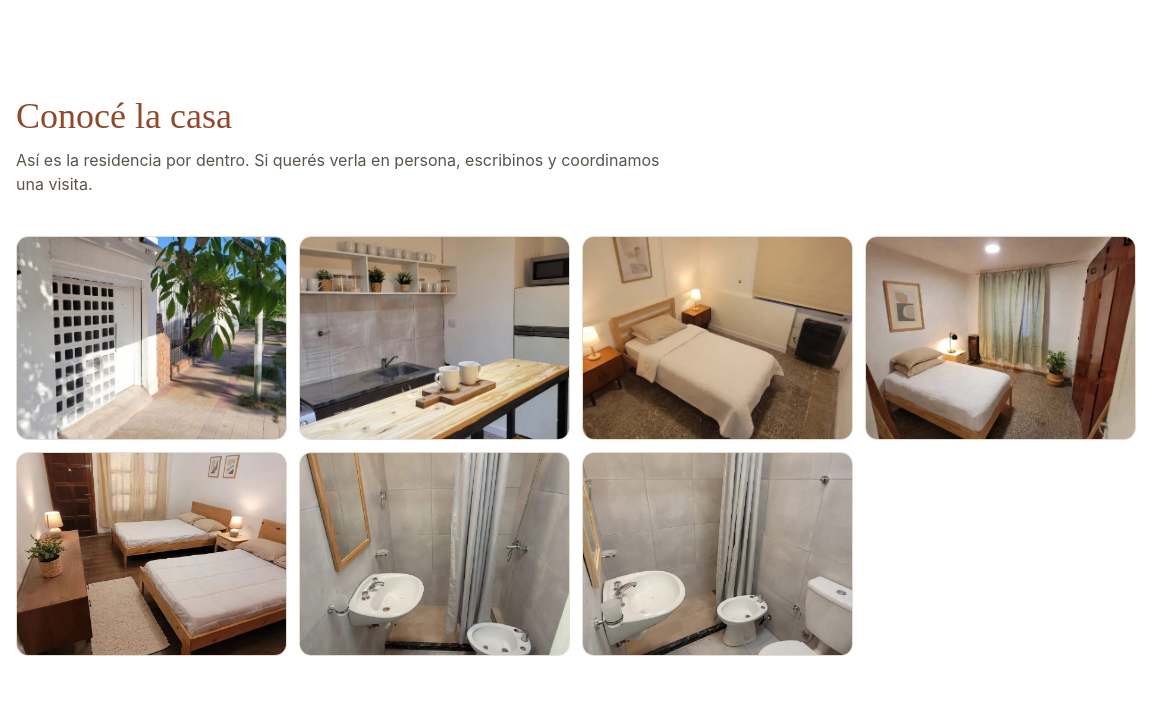
Galeria › se puede navegar a la siguiente imagen
The width and height of the screenshot is (1152, 720).
Click the button named "ampliar": (152,338) 16,236 -> 287,440
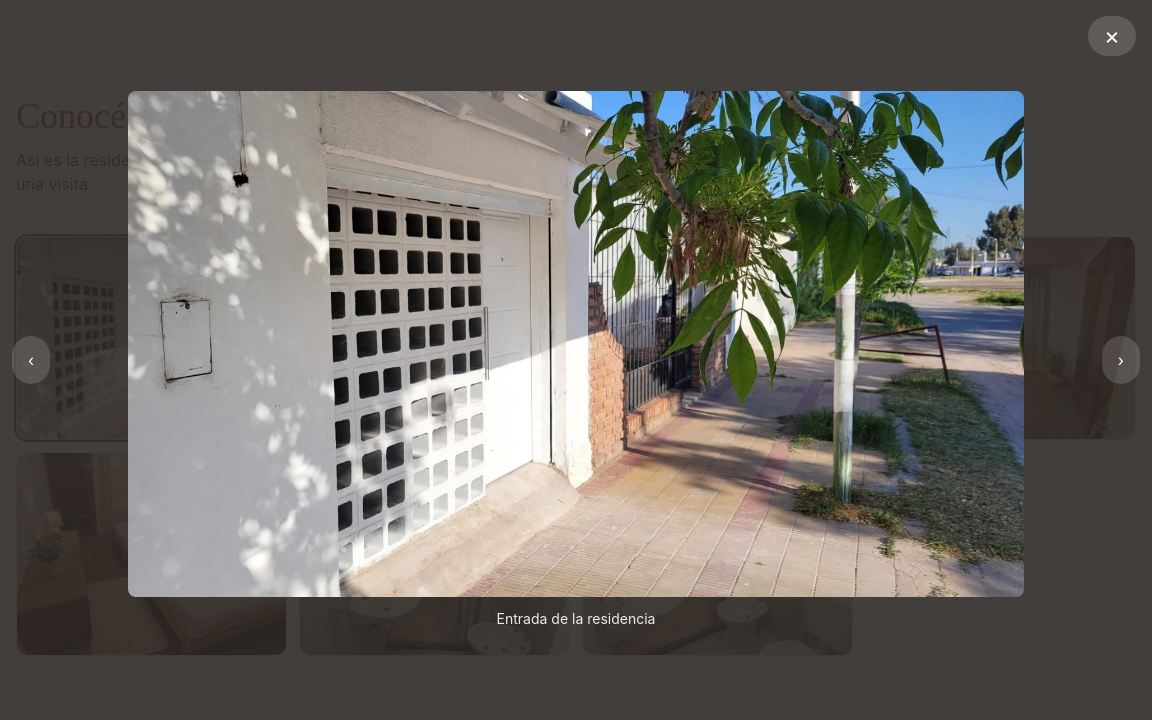
Click the button named "siguiente": (1121,360) 1102,336 -> 1140,384
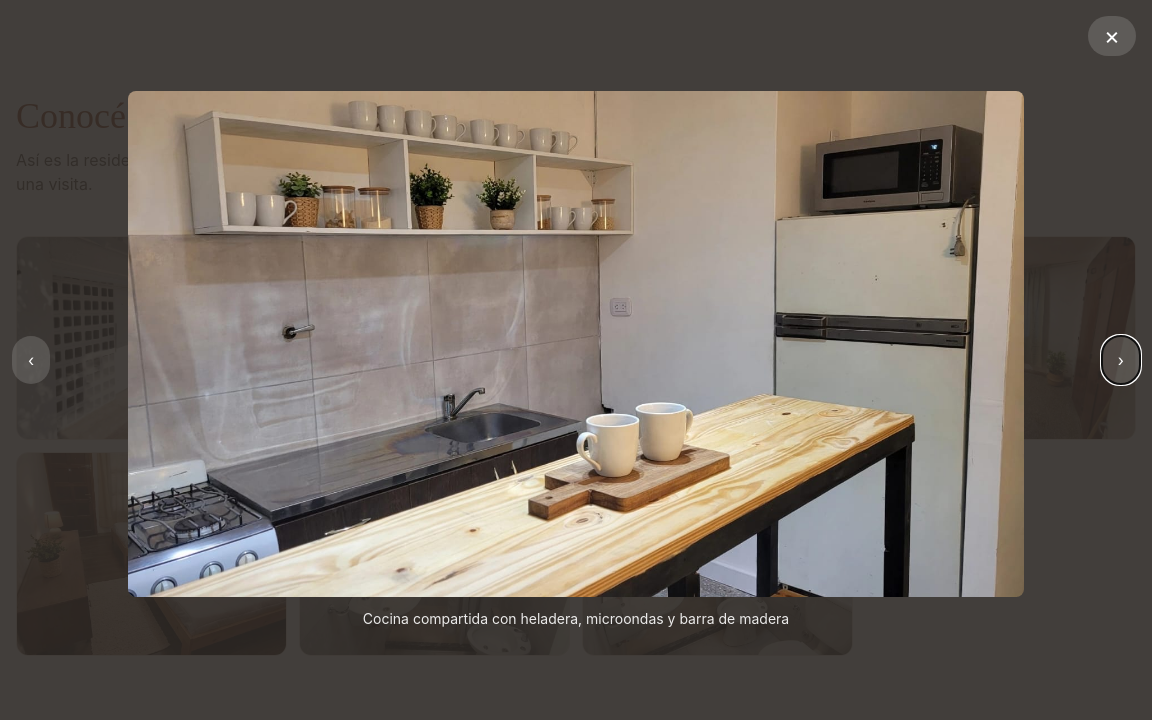
Result: the dialog shows "Cocina compartida con heladera, microondas y barra de madera" at 363,610 -> 789,627
